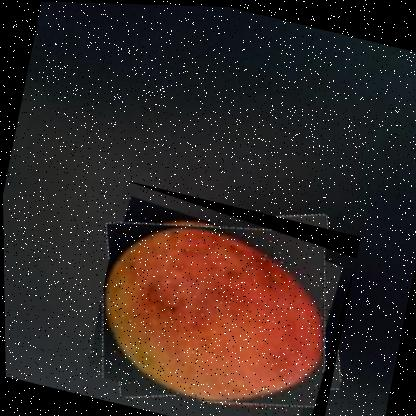mango: (81, 177, 362, 415)
